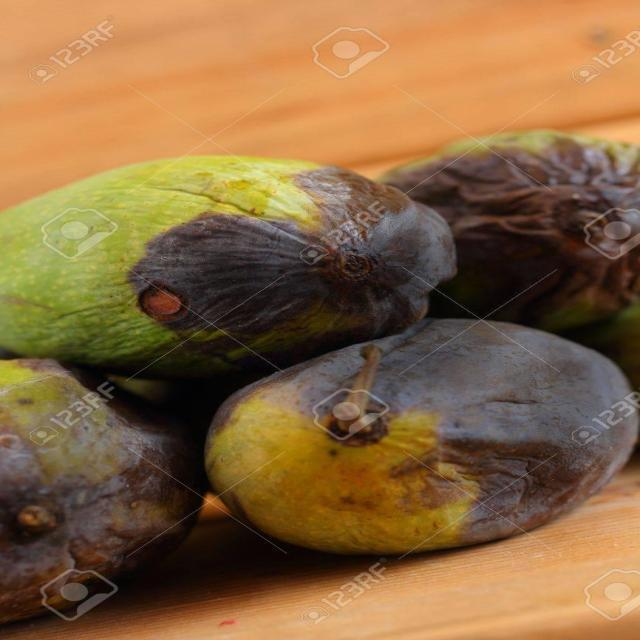Mango: (208, 318, 634, 557), (2, 154, 459, 367), (370, 127, 640, 376), (0, 352, 204, 626)
